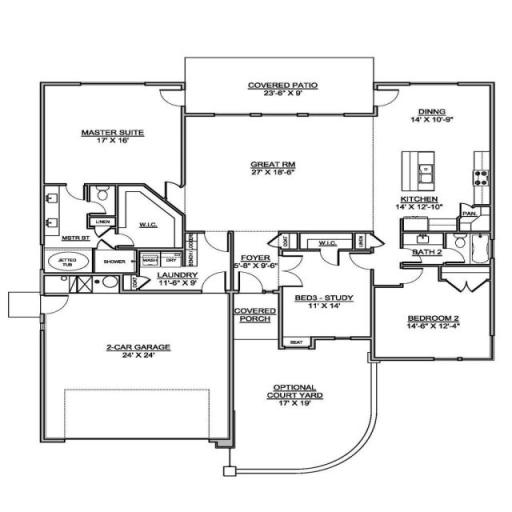Room: (186, 107, 380, 229)
bathroom: (41, 186, 122, 270), (380, 234, 485, 276)
bedroom: (376, 270, 492, 363), (284, 252, 366, 340)
garage: (35, 295, 231, 447)
hall: (48, 86, 181, 187)
kitchen: (384, 87, 490, 223)
laundary: (138, 254, 234, 291)
